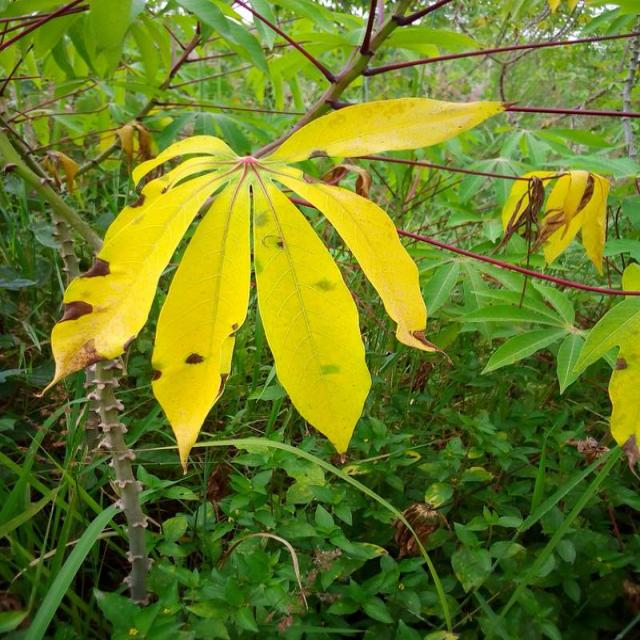cassava leaf: (44, 94, 507, 472)
